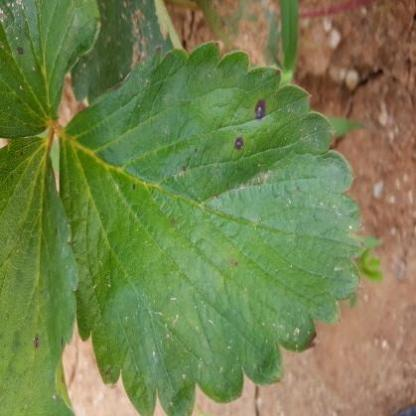Strawberry_Leaf_Spot: (57, 41, 367, 415), (0, 129, 81, 415), (0, 0, 102, 139)
